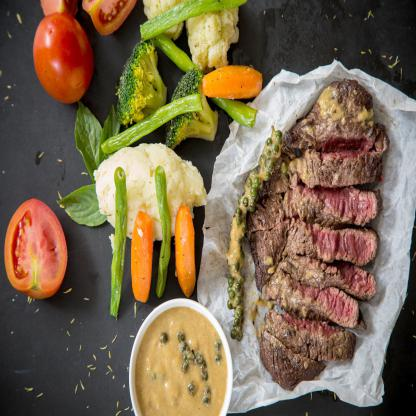Carne: (283, 79, 382, 146), (302, 129, 396, 188), (255, 309, 356, 363), (270, 254, 383, 302), (279, 182, 384, 230), (256, 280, 376, 322), (257, 329, 335, 390), (273, 221, 381, 262)
